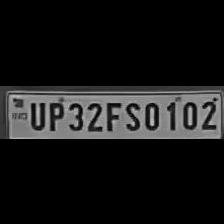0: (141, 98, 161, 130), (178, 97, 198, 129)
1: (162, 98, 178, 130)
2: (198, 97, 218, 129), (84, 98, 102, 132)
3: (64, 98, 84, 130)
F: (102, 97, 120, 131)
P: (46, 98, 64, 132)
S: (123, 98, 141, 130)
U: (26, 98, 44, 130)
